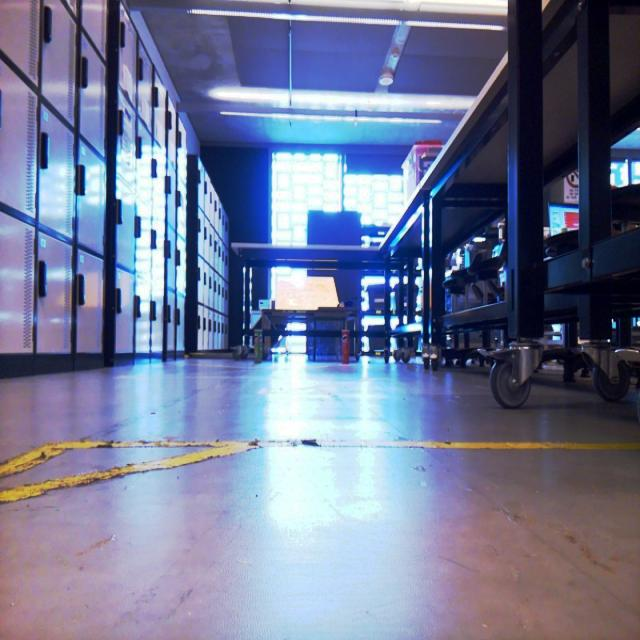greenpringles: (250, 325, 267, 363)
redpringles: (340, 320, 353, 364)
